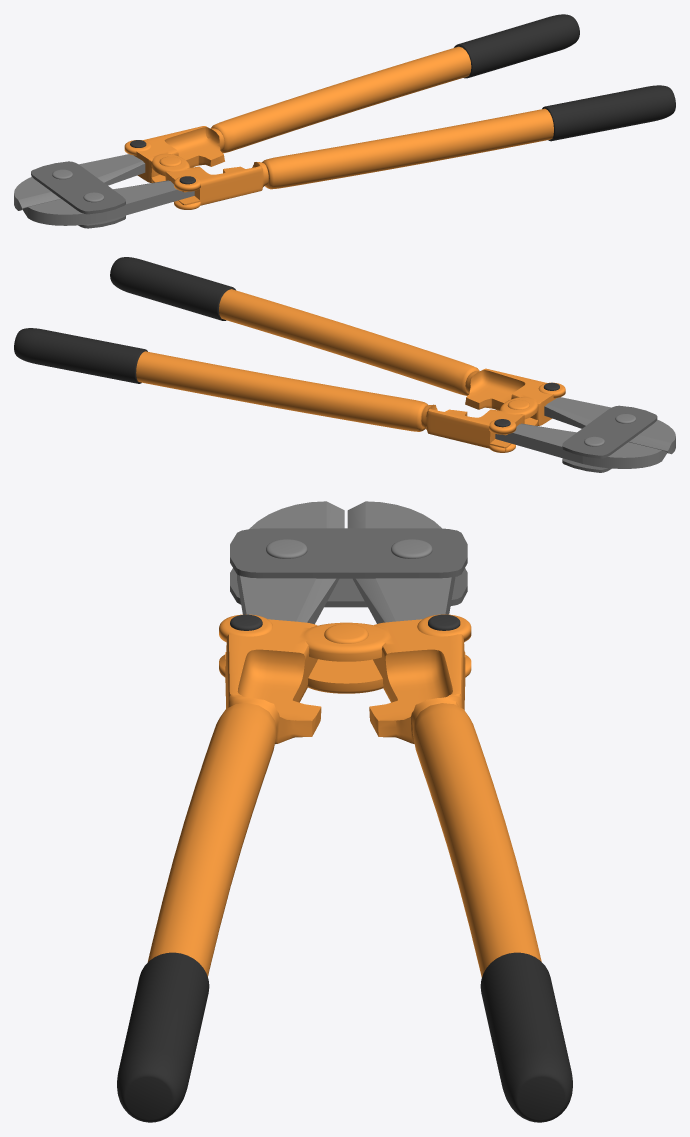
Rendered from 절단기.fbx.
3 renders of one model, top to bottom at view 1: azimuth 30°, elevation 25°; view 2: azimuth 150°, elevation 25°; view 3: azimuth 270°, elevation 25°, orthographic. The views are drawn at different scales.
Parts seen in each view (by area): view 1: Cube, Cylinder.001, Cube.013, Cube.009, Cube.002, Cube.001, Cube.003, Cube.018, Cube.006; view 2: Cube.013, Cylinder.001, Cube, Cube.009, Cube.003, Cube.001, Cube.002, Cube.018, Cube.006; view 3: Cylinder.001, Cube.009, Cube.013, Cube, Cube.001, Cube.002, Cube.003, Cube.018, Cube.008, Cube.006, Cube.020.
Part boxes in pixels (bbox=[...]): Cube: bbox=[262, 108, 553, 189]; Cylinder.001: bbox=[454, 14, 675, 141]; Cube.013: bbox=[211, 46, 471, 153]; Cube.009: bbox=[134, 126, 268, 205]; Cube.002: bbox=[23, 180, 194, 225]; Cube.001: bbox=[31, 161, 125, 214]; Cube.003: bbox=[14, 154, 145, 210]; Cube.018: bbox=[124, 140, 200, 209]; Cube.006: bbox=[52, 169, 104, 202]; Cube.013: bbox=[136, 351, 428, 431]; Cylinder.001: bbox=[14, 257, 235, 383]; Cube: bbox=[219, 289, 479, 395]; Cube.009: bbox=[421, 368, 556, 451]; Cube.003: bbox=[495, 423, 666, 468]; Cube.001: bbox=[562, 405, 657, 458]; Cube.002: bbox=[544, 397, 675, 454]; Cube.018: bbox=[489, 382, 565, 452]; Cube.006: bbox=[584, 413, 635, 446]; Cylinder.001: bbox=[117, 952, 572, 1122]; Cube.009: bbox=[225, 619, 465, 744]; Cube.013: bbox=[412, 703, 541, 977]; Cube: bbox=[147, 703, 276, 976]; Cube.001: bbox=[230, 528, 467, 578]; Cube.002: bbox=[237, 501, 344, 624]; Cube.003: bbox=[347, 501, 455, 623]; Cube.018: bbox=[219, 614, 471, 677]; Cube.008: bbox=[230, 568, 467, 607]; Cube.006: bbox=[266, 539, 432, 558]; Cube.020: bbox=[230, 614, 460, 630].
Size of the model in its own units: 518 by 26.52 by 171.
